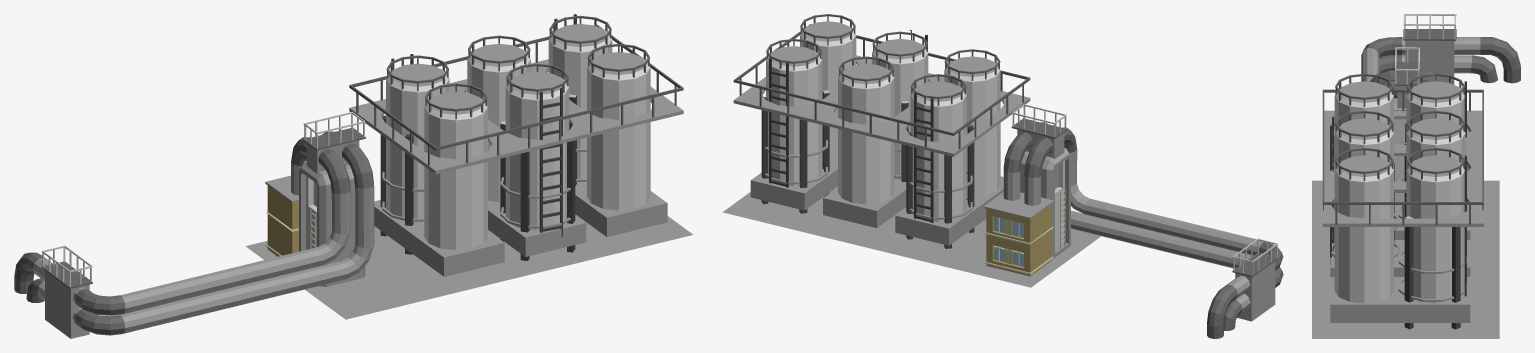
The model's file is water_pump.glb.
The picture shows the model from 3 angles, left to right: view 1: azimuth 30°, elevation 25°; view 2: azimuth 150°, elevation 25°; view 3: azimuth 270°, elevation 25°; orthographic projection. The views are drawn at different scales.
Visible parts, largest first — view 1: house_004, house_008, tile_for_home_1x1_007 (1), tile_for_home_1x1_007 (4), tile_for_home_1x1_007 (9), tile_for_home_1x1_007 (7), tile_for_home_1x1_007 (3); view 2: house_004, house_008, tile_for_home_1x1_007 (3), tile_for_home_1x1_007 (6), tile_for_home_1x1_007 (8), tile_for_home_1x1_007, tile_for_home_1x1_007 (1); view 3: house_004, house_008, tile_for_home_1x1_007 (8), tile_for_home_1x1_007 (9), tile_for_home_1x1_007 (6), tile_for_home_1x1_007 (3), tile_for_home_1x1_007 (7), tile_for_home_1x1_007 (4), tile_for_home_1x1_007, tile_for_home_1x1_007 (1).
Part boxes in pixels (<box>): house_004: <box>349,14,683,276</box>; house_008: <box>14,111,374,338</box>; tile_for_home_1x1_007 (1): <box>305,261,432,319</box>; tile_for_home_1x1_007 (4): <box>383,254,519,298</box>; tile_for_home_1x1_007 (9): <box>575,214,693,255</box>; tile_for_home_1x1_007 (7): <box>494,234,605,276</box>; tile_for_home_1x1_007 (3): <box>371,226,410,261</box>; house_004: <box>733,14,1030,248</box>; house_008: <box>983,104,1283,338</box>; tile_for_home_1x1_007 (3): <box>877,230,986,268</box>; tile_for_home_1x1_007 (6): <box>800,212,899,249</box>; tile_for_home_1x1_007 (8): <box>722,192,824,230</box>; tile_for_home_1x1_007: <box>954,245,1075,287</box>; tile_for_home_1x1_007 (1): <box>1063,210,1100,254</box>; house_004: <box>1322,73,1483,329</box>; house_008: <box>1361,14,1520,201</box>; tile_for_home_1x1_007 (8): <box>1406,299,1499,338</box>; tile_for_home_1x1_007 (9): <box>1312,299,1405,338</box>; tile_for_home_1x1_007 (6): <box>1470,259,1499,299</box>; tile_for_home_1x1_007 (3): <box>1470,220,1499,259</box>; tile_for_home_1x1_007 (7): <box>1312,259,1330,299</box>; tile_for_home_1x1_007 (4): <box>1312,220,1329,259</box>; tile_for_home_1x1_007: <box>1484,180,1499,219</box>; tile_for_home_1x1_007 (1): <box>1312,180,1334,219</box>.
Size of the model in its own units: 52.88 by 15.23 by 17.81.
Materials: 1 (1 with a texture image).
